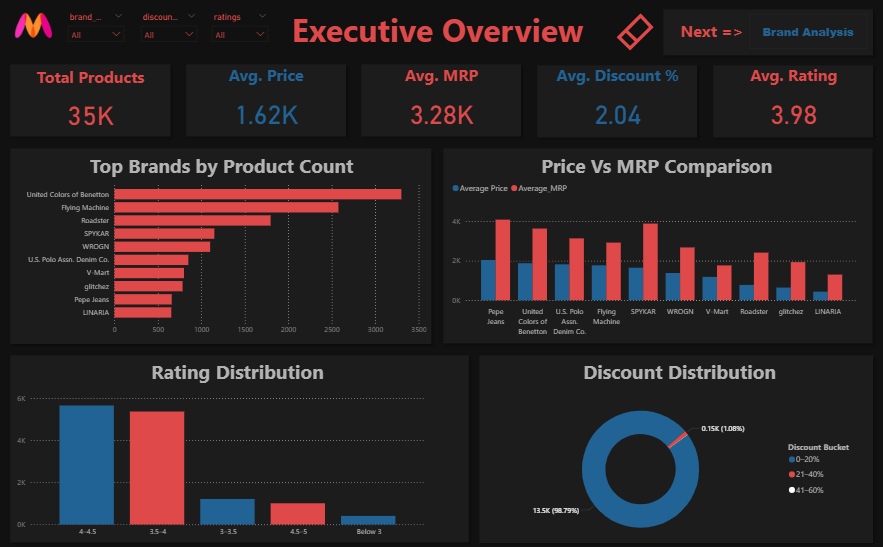

Layout of this report page (visuals, bound fields, positions):
{"tool":"powerbi","page":{"name":"Executive Overview","canvas":[1480,920],"ordinal":0},"visuals":[{"type":"shape","box":[10.3,102,285.6,138.1],"z":0},{"type":"shape","box":[597.5,102.8,285.1,138.1],"z":1000},{"type":"shape","box":[1185.2,103,285.1,138.1],"z":2000},{"type":"shape","box":[10,242,722.3,345.4],"z":3000},{"type":"card","fields":{"Values":["myntra_cleaned.Average_MRP"]},"box":[596.8,153,286.7,78.2],"z":4000},{"type":"card","fields":{"Values":["myntra_cleaned.Average Rating"]},"box":[1185.3,153,286.7,78.2],"z":5000},{"type":"card","fields":{"Values":["myntra_cleaned.Total Products"]},"box":[10,154.6,286.7,78.2],"z":6000},{"type":"shape","box":[734.2,242.6,736.2,344.2],"z":7000},{"type":"textbox","box":[596.8,105.5,286.7,55.2],"z":8000},{"type":"textbox","box":[1185.3,105.5,286.7,55.2],"z":9000},{"type":"textbox","box":[10,108.9,286.4,54.8],"z":10000},{"type":"shape","box":[892.1,102.9,285.1,138.1],"z":11000},{"type":"shape","box":[10,589.3,784.5,330.7],"z":12000},{"type":"shape","box":[304.3,102.8,285.1,138.1],"z":13000},{"type":"card","fields":{"Values":["myntra_cleaned.Average Discount %"]},"box":[891.9,153,286.7,78.2],"z":14000},{"type":"shape","box":[794.2,588.7,676.2,331.3],"z":15000},{"type":"card","fields":{"Values":["myntra_cleaned.Average Price"]},"box":[305.1,153,285.1,78.2],"z":16000},{"type":"textbox","box":[891.9,105.5,286.7,55.2],"z":17000},{"type":"textbox","box":[305.1,105.5,285.1,55.2],"z":18000},{"type":"clusteredBarChart","fields":{"Category":["myntra_cleaned.brand_name"],"Y":["myntra_cleaned.Total Products"]},"box":[30,298.3,690,275],"z":19000},{"type":"clusteredColumnChart","fields":{"Category":["myntra_cleaned.brand_name"],"Y":["myntra_cleaned.Average Price","myntra_cleaned.Average_MRP"]},"box":[753.3,298.3,688.3,275],"z":20000},{"type":"donutChart","fields":{"Category":["myntra_cleaned.Discount Bucket"],"Y":["CountNonNull(myntra_cleaned.pants_description)"]},"box":[821.7,655,621.7,265],"z":21000},{"type":"clusteredColumnChart","fields":{"Category":["myntra_cleaned.Rating Bucket"],"Y":["CountNonNull(myntra_cleaned.pants_description)"]},"box":[25,655,693.3,255],"z":22000},{"type":"shape","box":[1102.5,10,368.8,95],"z":23000},{"type":"pageNavigator","box":[1255,27.5,198.8,58.8],"z":24000},{"type":"textbox","box":[481.2,10,503.8,86.2],"z":25000},{"type":"slicer","fields":{"Values":["myntra_cleaned.brand_name"]},"box":[105,18.3,113.6,68.3],"z":26000,"group":"g1"},{"type":"textbox","box":[1112.5,31.2,161.2,55],"z":26000},{"type":"slicer","fields":{"Values":["myntra_cleaned.ratings"]},"box":[346.4,18.3,113.6,68.3],"z":27000,"group":"g1"},{"type":"actionButton","box":[1028.8,22.5,73.8,71.2],"z":27000},{"type":"slicer","fields":{"Values":["myntra_cleaned.discount_percent"]},"box":[226.5,18.3,113.6,68.3],"z":28000,"group":"g1"},{"type":"textbox","box":[25,253.3,695,58.3],"z":28000},{"type":"textbox","box":[753.3,253.3,695,58.3],"z":29000},{"type":"textbox","box":[23.3,596.7,760,58.3],"z":30000},{"type":"textbox","box":[806.7,596.7,673.3,58.3],"z":31000},{"type":"group","id":"g1","title":"Group 1","box":[105,18.3,355,68.3],"z":32000},{"type":"image","box":[10,10,94.5,70.9],"z":32001}]}

Visuals, with their boxes in screenshot pixels (x1, y1, x2, y2), scaled from the page's 1480x920 canvas onto the 883x547 screenshot:
shape: bbox(6, 61, 177, 143)
shape: bbox(356, 61, 527, 143)
shape: bbox(707, 61, 877, 143)
shape: bbox(6, 144, 437, 349)
card - myntra_cleaned.Average_MRP: bbox(356, 91, 527, 137)
card - myntra_cleaned.Average Rating: bbox(707, 91, 878, 137)
card - myntra_cleaned.Total Products: bbox(6, 92, 177, 138)
shape: bbox(438, 144, 877, 349)
textbox: bbox(356, 63, 527, 96)
textbox: bbox(707, 63, 878, 96)
textbox: bbox(6, 65, 177, 97)
shape: bbox(532, 61, 702, 143)
shape: bbox(6, 350, 474, 546)
shape: bbox(182, 61, 352, 143)
card - myntra_cleaned.Average Discount %: bbox(532, 91, 703, 137)
shape: bbox(474, 350, 877, 546)
card - myntra_cleaned.Average Price: bbox(182, 91, 352, 137)
textbox: bbox(532, 63, 703, 96)
textbox: bbox(182, 63, 352, 96)
clusteredBarChart - myntra_cleaned.brand_name x myntra_cleaned.Total Products: bbox(18, 177, 430, 341)
clusteredColumnChart - myntra_cleaned.brand_name x myntra_cleaned.Average Price: bbox(449, 177, 860, 341)
donutChart - myntra_cleaned.Discount Bucket x CountNonNull(myntra_cleaned.pants_description): bbox(490, 389, 861, 546)
clusteredColumnChart - myntra_cleaned.Rating Bucket x CountNonNull(myntra_cleaned.pants_description): bbox(15, 389, 429, 541)
shape: bbox(658, 6, 878, 62)
pageNavigator: bbox(749, 16, 867, 51)
textbox: bbox(287, 6, 588, 57)
slicer - myntra_cleaned.brand_name: bbox(63, 11, 130, 51)
textbox: bbox(664, 19, 760, 51)
slicer - myntra_cleaned.ratings: bbox(207, 11, 274, 51)
actionButton: bbox(614, 13, 658, 56)
slicer - myntra_cleaned.discount_percent: bbox(135, 11, 203, 51)
textbox: bbox(15, 151, 430, 185)
textbox: bbox(449, 151, 864, 185)
textbox: bbox(14, 355, 467, 389)
textbox: bbox(481, 355, 882, 389)
"Group 1" group: bbox(63, 11, 274, 51)
image: bbox(6, 6, 62, 48)
